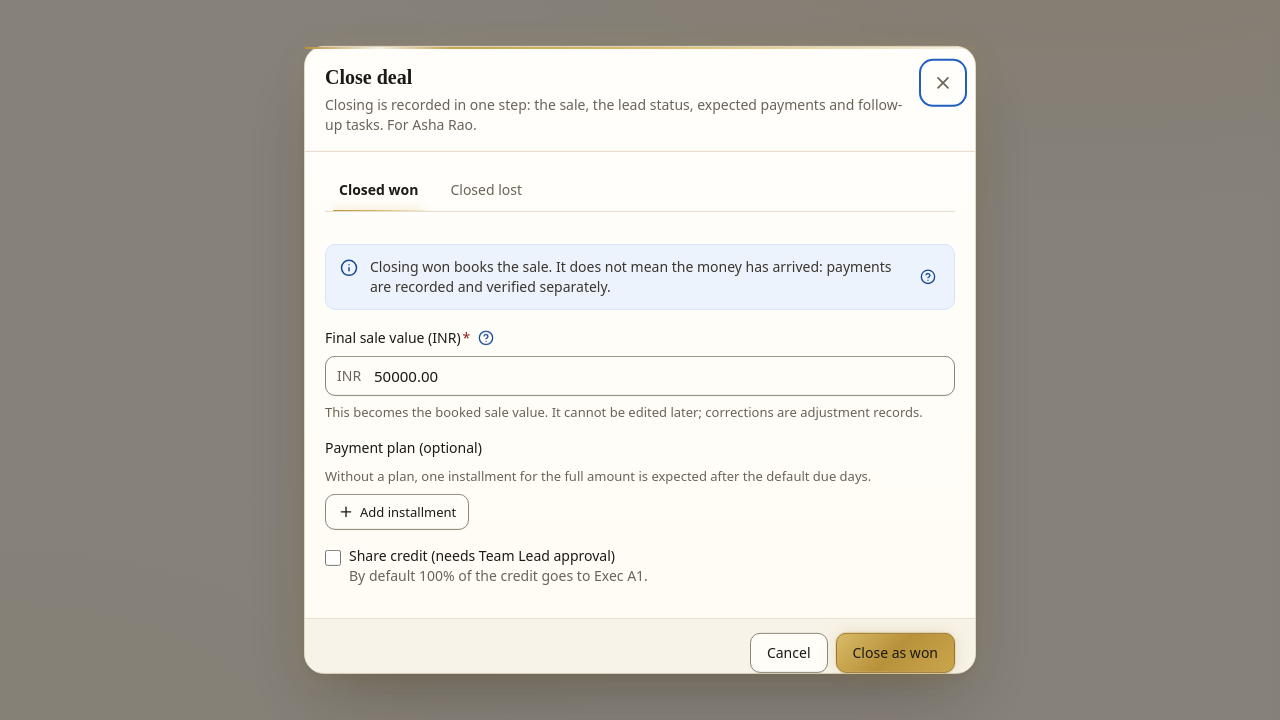
Test: close deal dialog › shows the server error inside the dialog and does not claim success
Click the button "Close as won".
click(895, 653)  # box [836,633,955,673]
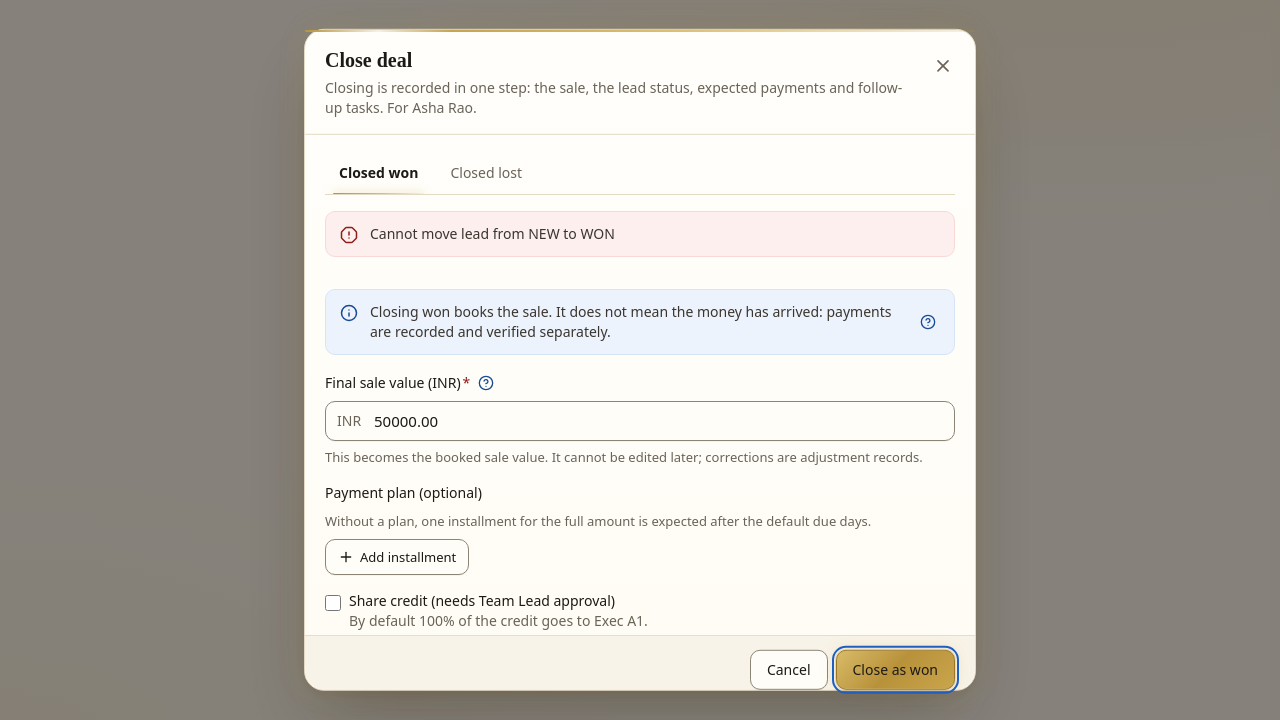
Result: the text "Cannot move lead from NEW to WON" is shown at [370,224,615,243]
